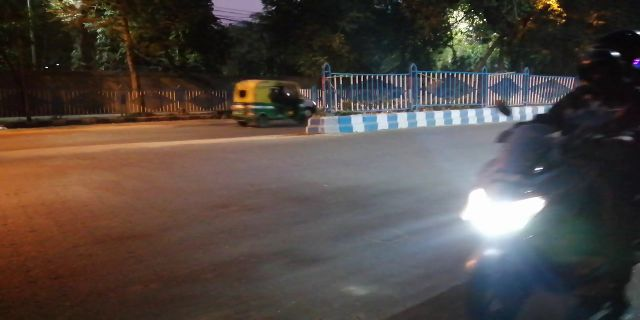Autorickshaw: (234, 78, 312, 123)
Motorbike: (453, 46, 640, 320)
